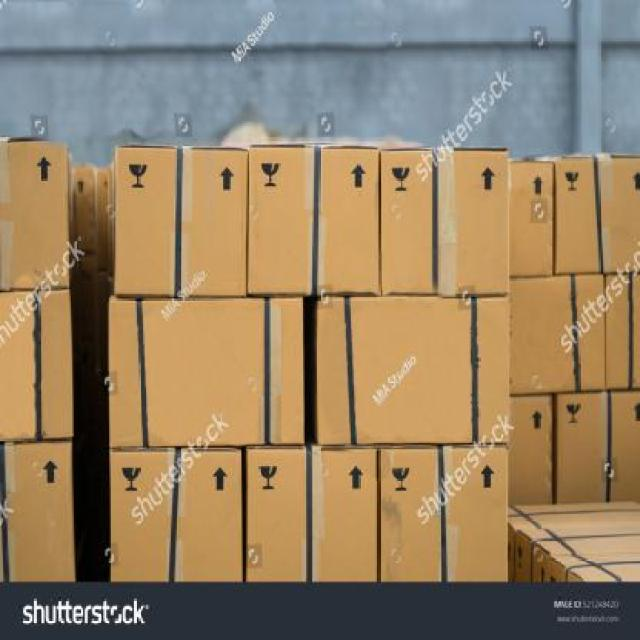BoxFace: (108, 297, 306, 451), (318, 296, 506, 446), (114, 144, 248, 298), (246, 144, 380, 298), (380, 146, 511, 296), (376, 444, 509, 584), (110, 448, 242, 586), (245, 446, 378, 582), (0, 287, 75, 441), (510, 274, 607, 392), (0, 438, 75, 583), (552, 152, 640, 272), (0, 138, 69, 291)
